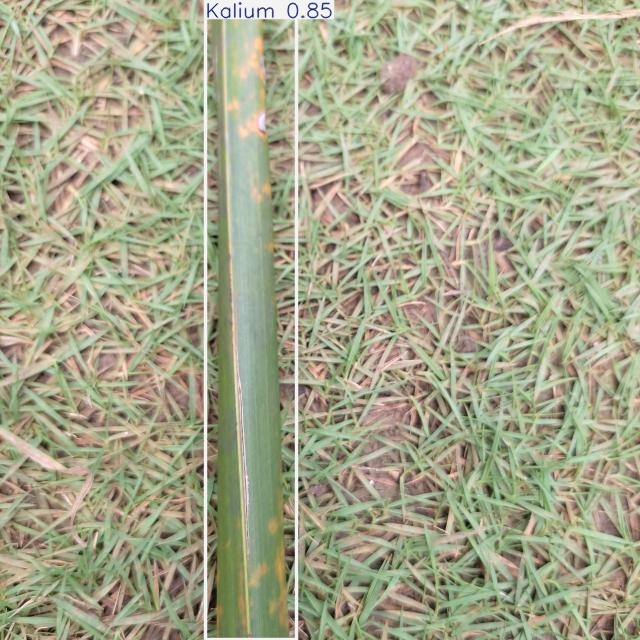Kalium: (205, 0, 296, 640)
